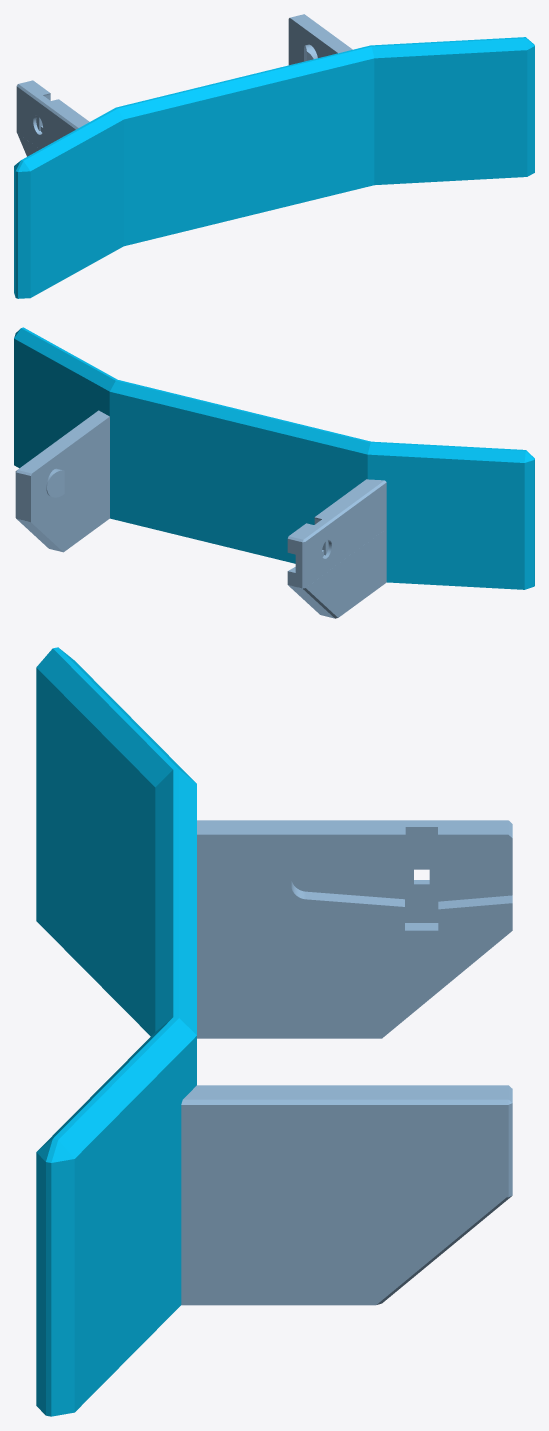
File: Bumper_motor_collect.glb
3 views of the same model, one above another, from view 1: azimuth 30°, elevation 25°; view 2: azimuth 150°, elevation 25°; view 3: azimuth 270°, elevation 25° (orthographic). The views are drawn at different scales.
Visible parts, largest first — view 1: Node2, Node1; view 2: Node2, Node1; view 3: Node1, Node2.
Part boxes in pixels (x1,y1,x2,y2): Node2: (14, 37, 534, 298); Node1: (16, 14, 352, 156); Node2: (14, 327, 534, 589); Node1: (15, 410, 386, 618); Node1: (181, 820, 512, 1305); Node2: (36, 647, 196, 1416).
Size of the model in its own units: 151 by 37.5 by 60.
